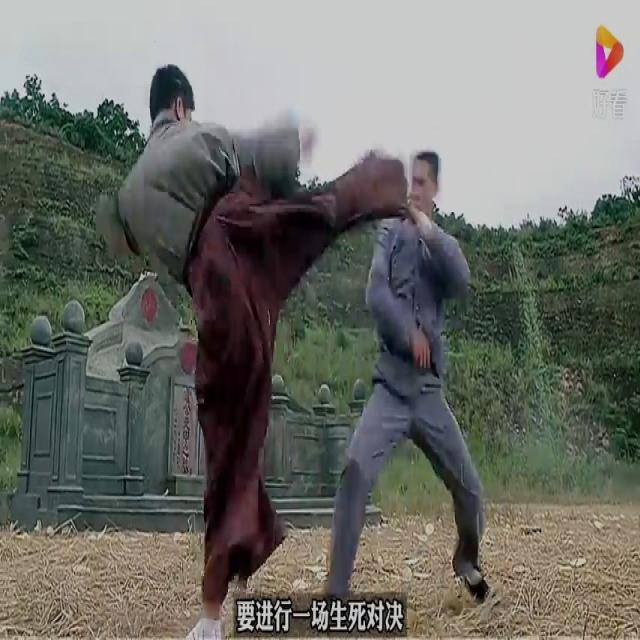fight: (98, 60, 478, 627)
